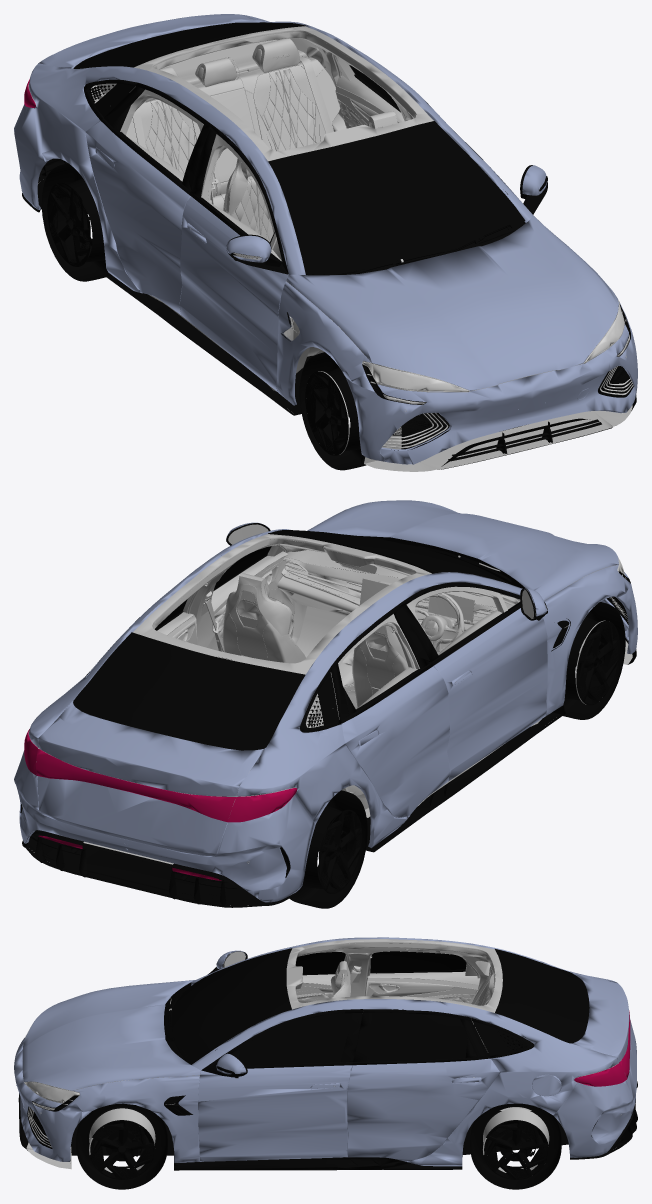
File: byd-seal.glb
The picture shows the model from 3 angles, top to bottom: view 1: azimuth 30°, elevation 25°; view 2: azimuth 150°, elevation 25°; view 3: azimuth 270°, elevation 25°; orthographic projection. The views are drawn at different scales.
Parts seen in each view (by area): view 1: ReservePaint_2, Object_6, ReservePaint_3, Object_5, Object_7, Object_4, ReserveTire_3, ReserveTire_0, ReservePaint_0, ReserveTire_4; view 2: Object_6, ReservePaint_2, ReservePaint_3, ReservePaint_0, Object_5, Object_7, ReserveTire_3, ReserveTire_0, Object_4, ReserveTire_4; view 3: ReservePaint_2, ReservePaint_0, Object_6, Object_4, ReserveTire_4, Object_7, Object_5, ReservePaint_1, ReserveRim_4, ReserveTire_1.
Boxes of the visible parts, <box> form: ReservePaint_2: <box>14,14,637,464</box>; Object_6: <box>22,22,636,471</box>; ReservePaint_3: <box>85,121,288,391</box>; Object_5: <box>28,38,633,448</box>; Object_7: <box>24,63,469,450</box>; Object_4: <box>228,38,624,361</box>; ReserveTire_3: <box>41,163,109,281</box>; ReserveTire_0: <box>299,352,365,470</box>; ReservePaint_0: <box>38,14,547,410</box>; ReserveTire_4: <box>49,187,89,262</box>; Object_6: <box>20,530,636,907</box>; ReservePaint_2: <box>14,500,637,902</box>; ReservePaint_3: <box>341,588,547,817</box>; ReservePaint_0: <box>37,522,268,856</box>; Object_5: <box>24,523,630,848</box>; Object_7: <box>172,557,628,880</box>; ReserveTire_3: <box>289,790,367,908</box>; ReserveTire_0: <box>563,602,625,719</box>; Object_4: <box>84,524,306,861</box>; ReserveTire_4: <box>321,812,360,887</box>; ReservePaint_2: <box>14,937,635,1166</box>; ReservePaint_0: <box>16,971,636,1161</box>; Object_6: <box>18,939,637,1169</box>; Object_4: <box>25,1009,534,1170</box>; ReserveTire_4: <box>76,1103,561,1189</box>; Object_7: <box>25,943,494,1037</box>; Object_5: <box>23,943,626,1149</box>; ReservePaint_1: <box>61,1075,481,1162</box>; ReserveRim_4: <box>89,1108,549,1172</box>; ReserveTire_1: <box>486,1122,547,1178</box>.
Size of the model in its own units: 0.0835 by 0.0579 by 0.1867.
